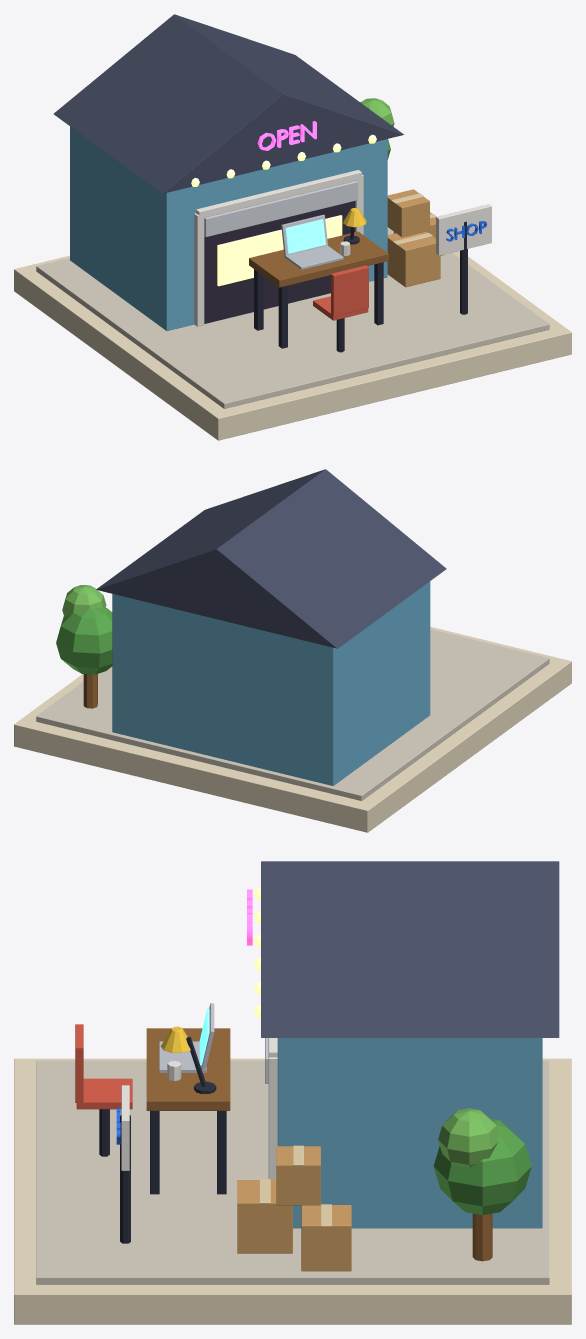
File: side_hustle.glb
The picture shows the model from 3 angles, top to bottom: view 1: azimuth 30°, elevation 25°; view 2: azimuth 150°, elevation 25°; view 3: azimuth 270°, elevation 25°; orthographic projection. The views are drawn at different scales.
Parts seen in each view (by area): view 1: SideHustle; view 2: SideHustle; view 3: SideHustle.
Part boxes in pixels (box(x1,y1,x2,y2)): SideHustle: box(14, 14, 571, 440); SideHustle: box(14, 469, 571, 832); SideHustle: box(14, 861, 571, 1324).
Bounding box in the file's own units: 2 × 1.31 × 2.
